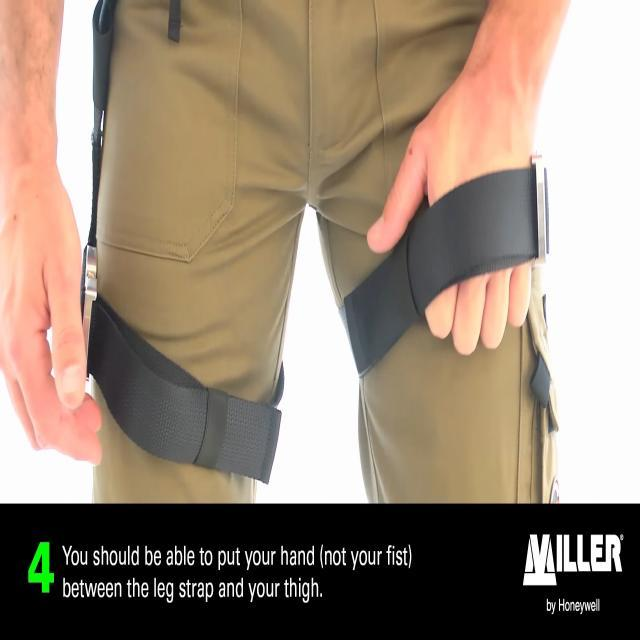belt: (46, 0, 574, 483)
